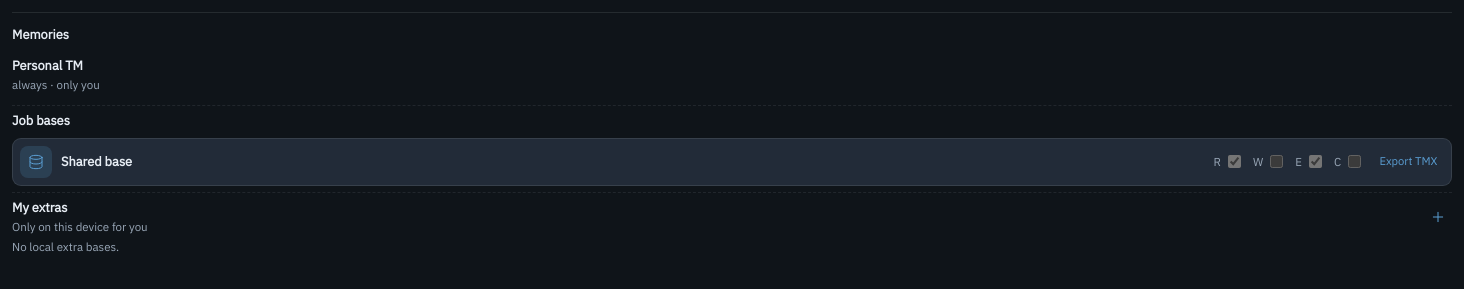
Test: JobMemoriesPanel › exports a readable shared base when the member has permission
What coordinates should you click on to do the following:
click the button with test id "job-tm-export"
I would click on:
 (1408, 162)
Its box is [1373, 148, 1444, 176].
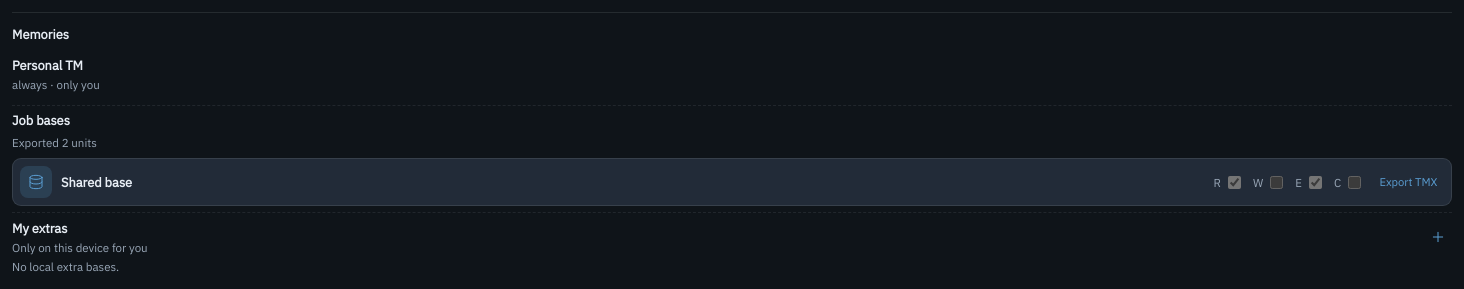
expect the text "Exported 2 units" is shown: met, box [12, 135, 97, 150]
